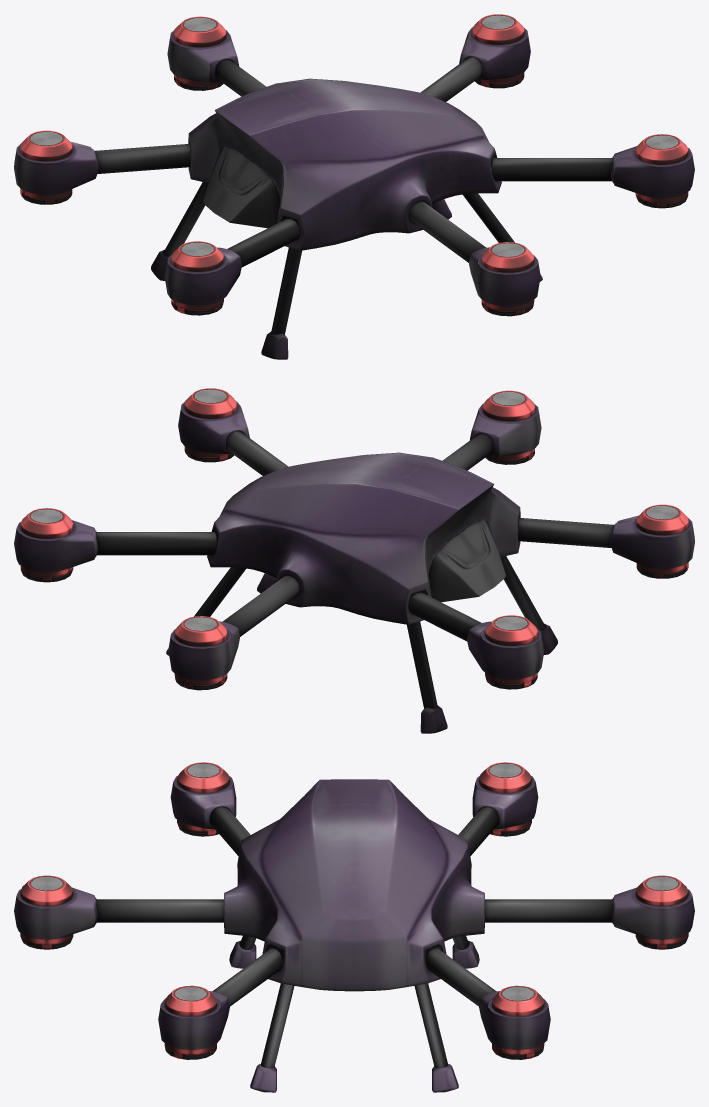
Rendered from hexrotor.dae.
3 views of the same model, one above another, from view 1: azimuth 30°, elevation 25°; view 2: azimuth 150°, elevation 25°; view 3: azimuth 270°, elevation 25° (orthographic).
Parts seen in each view (by area): view 1: X4; view 2: X4; view 3: X4.
Part boxes in pixels (box(x1,y1,x2,y2)): X4: box(14, 14, 694, 359); X4: box(14, 388, 694, 733); X4: box(14, 762, 694, 1092).
Size of the model in its own units: 0.5577 by 0.6395 by 0.2078.
Materials: 1 (1 with a texture image).
